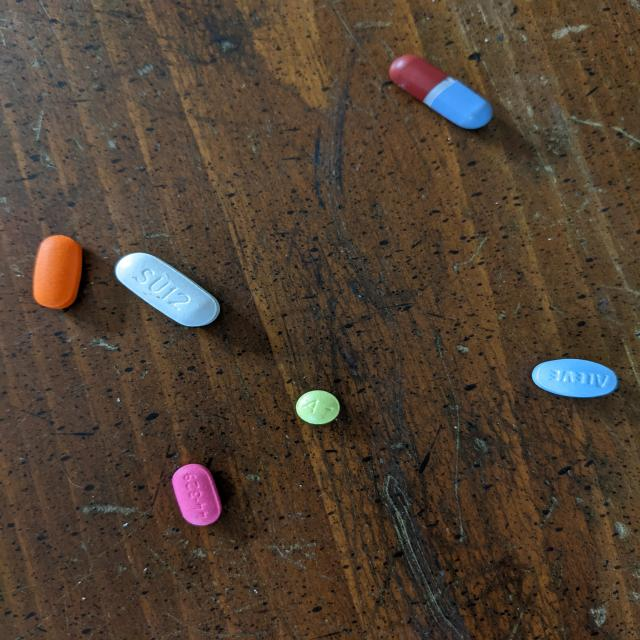non-organic waste: (113, 251, 222, 328), (387, 54, 494, 130), (31, 234, 84, 310), (531, 357, 619, 399), (170, 463, 224, 527), (295, 390, 341, 425)
